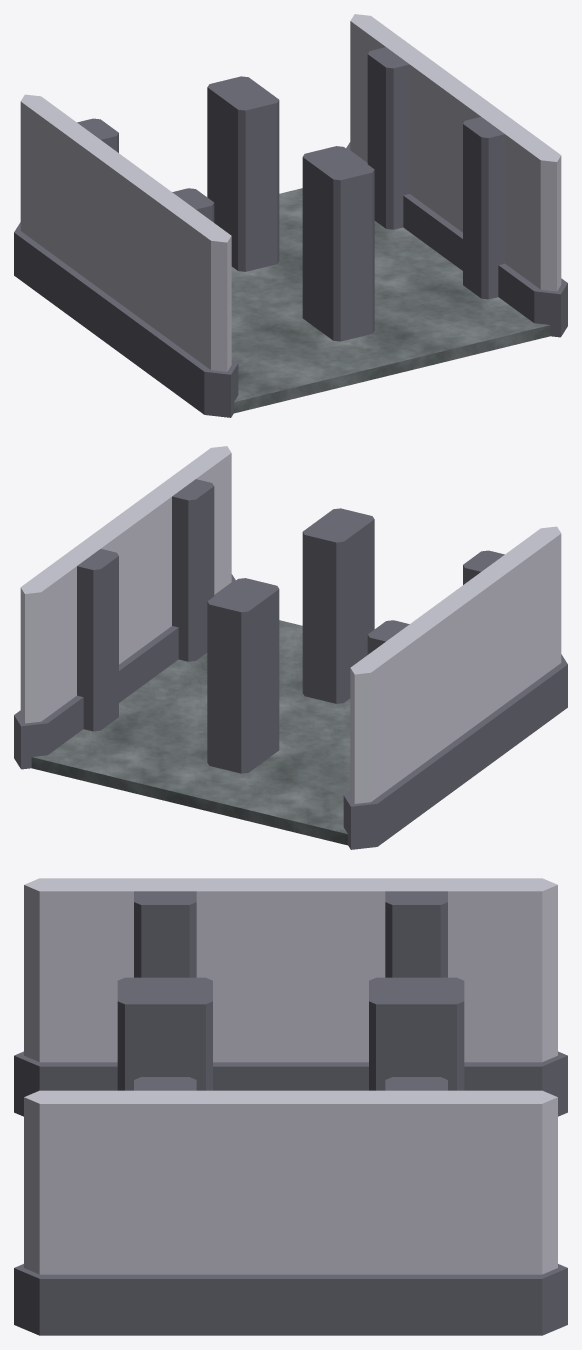
The model's file is hallway_02.fbx.
3 renders of one model, top to bottom at view 1: azimuth 30°, elevation 25°; view 2: azimuth 150°, elevation 25°; view 3: azimuth 270°, elevation 25°, orthographic. The views are drawn at different scales.
Visible parts, largest first — view 1: floor_01_0, wall_02_2, wall_02_4, wall_02_1, wall_02_3, pillar_01_6, pillar_01_5; view 2: floor_01_0, wall_02_1, wall_02_3, wall_02_2, wall_02_4, pillar_01_5, pillar_01_6; view 3: wall_02_3, wall_02_4, wall_02_1, wall_02_2, pillar_01_5, pillar_01_6.
Boxes of the visible parts, x1,y1,x2,y2 form: floor_01_0: (231, 188, 550, 413); wall_02_2: (109, 165, 238, 417); wall_02_4: (439, 84, 567, 337); wall_02_1: (14, 94, 135, 344); wall_02_3: (346, 14, 465, 253); pillar_01_6: (302, 146, 374, 341); pillar_01_5: (207, 76, 279, 271); floor_01_0: (31, 620, 350, 845); wall_02_1: (343, 596, 472, 849); wall_02_3: (14, 516, 142, 769); wall_02_2: (446, 526, 567, 776); wall_02_4: (116, 446, 235, 685); pillar_01_5: (207, 578, 279, 773); pillar_01_6: (302, 508, 374, 703); wall_02_3: (276, 1077, 567, 1335); wall_02_4: (14, 1077, 304, 1335); wall_02_1: (276, 878, 567, 1116); wall_02_2: (14, 878, 305, 1116); pillar_01_5: (369, 977, 464, 1090); pillar_01_6: (117, 977, 212, 1090).
Bounding box in the file's own units: 22.05 × 10 × 22.05.
